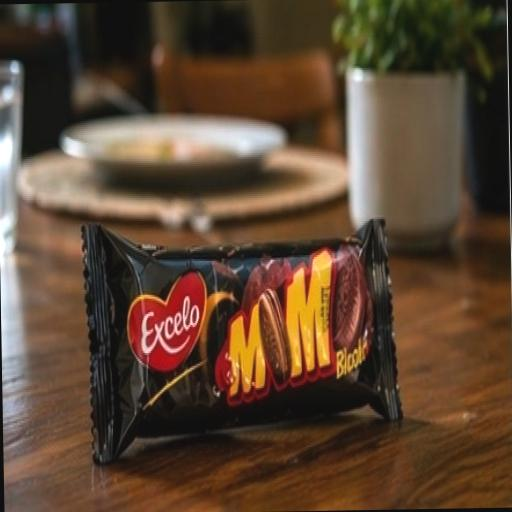MOMO: (54, 125, 430, 491)
